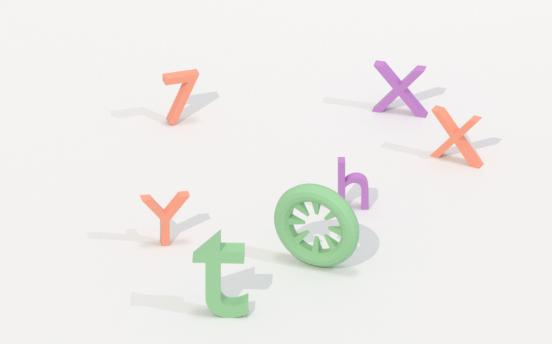7: (159, 68, 206, 129)
Y-hoa: (137, 187, 194, 248)
h: (333, 152, 373, 214)
t: (189, 231, 258, 320)
tron: (269, 184, 363, 268)
x: (427, 101, 485, 170), (368, 57, 429, 119)
